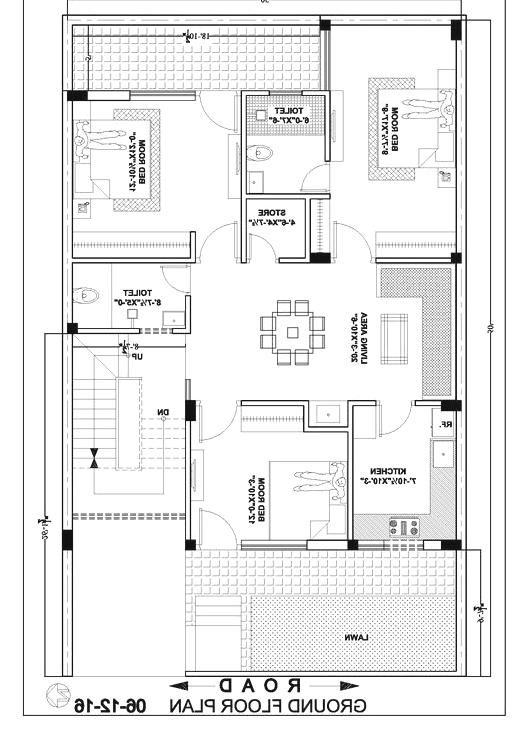Blueprint: (56, 6, 472, 682)
wall: (182, 668, 472, 680), (72, 14, 320, 26), (61, 100, 73, 324), (456, 39, 467, 253), (62, 334, 73, 529), (239, 88, 250, 264), (59, 255, 199, 268), (454, 548, 466, 678), (456, 263, 467, 401), (61, 550, 73, 676), (331, 14, 450, 26), (456, 410, 467, 539), (345, 400, 354, 540), (237, 190, 332, 201), (62, 14, 73, 91), (372, 256, 454, 266), (322, 88, 332, 164), (185, 421, 191, 540), (303, 189, 312, 266), (76, 326, 142, 336), (306, 539, 348, 551), (182, 292, 193, 336), (88, 90, 130, 101), (240, 400, 304, 407), (344, 398, 380, 409), (277, 255, 313, 265), (188, 229, 198, 265), (240, 88, 272, 98), (414, 398, 444, 408), (300, 88, 332, 97), (303, 426, 348, 432), (170, 326, 194, 336), (302, 400, 310, 427), (422, 540, 442, 550), (185, 379, 192, 400)
